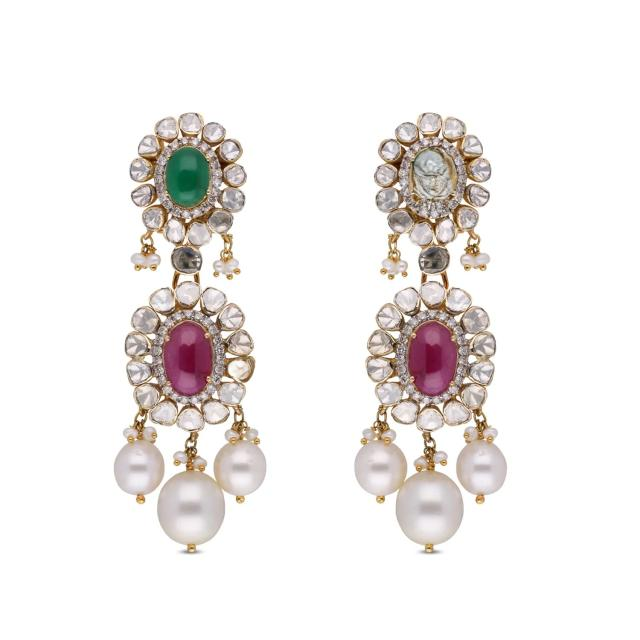missing gem: (407, 148, 456, 208), (228, 360, 251, 380)
